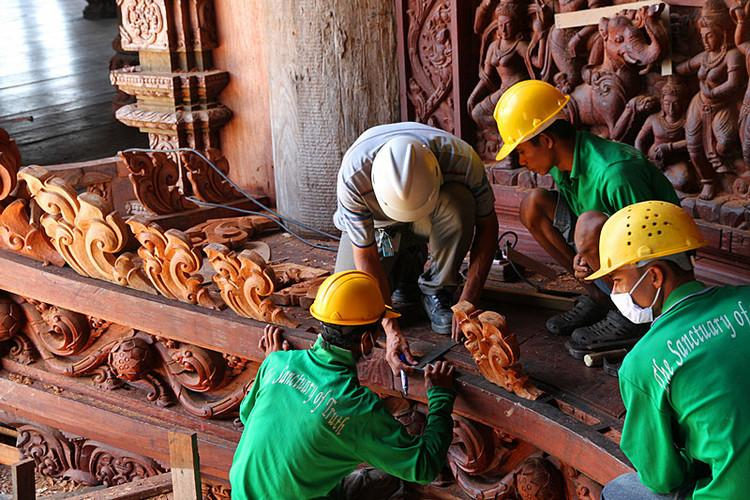helmet: (584, 199, 709, 284), (369, 134, 444, 224), (494, 78, 571, 165), (311, 270, 393, 325)
